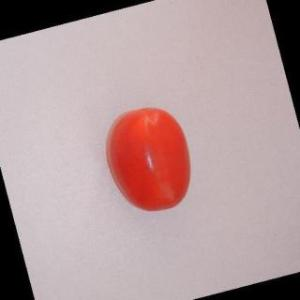tomato: (96, 99, 202, 226)
